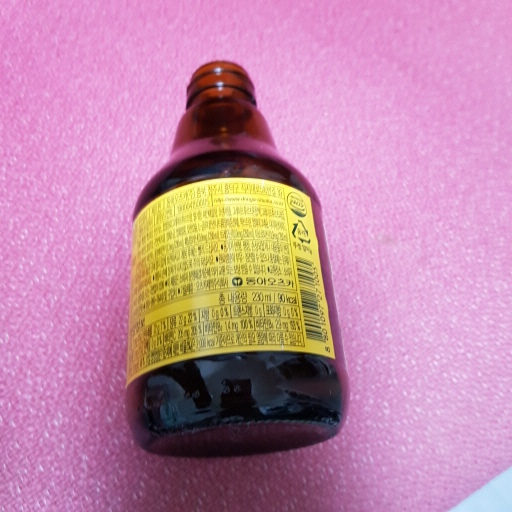Glass_3: (124, 59, 343, 462)
